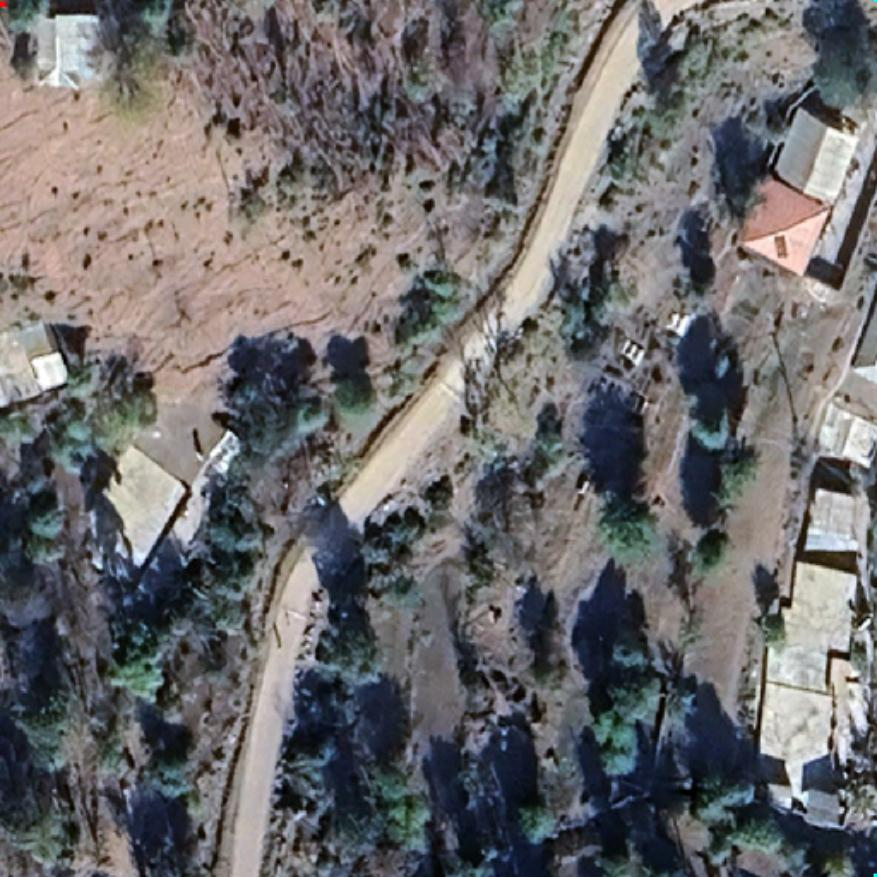Solarpanel: (773, 234, 789, 260)
